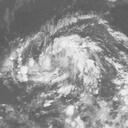cyclone: (18, 35, 98, 94)
